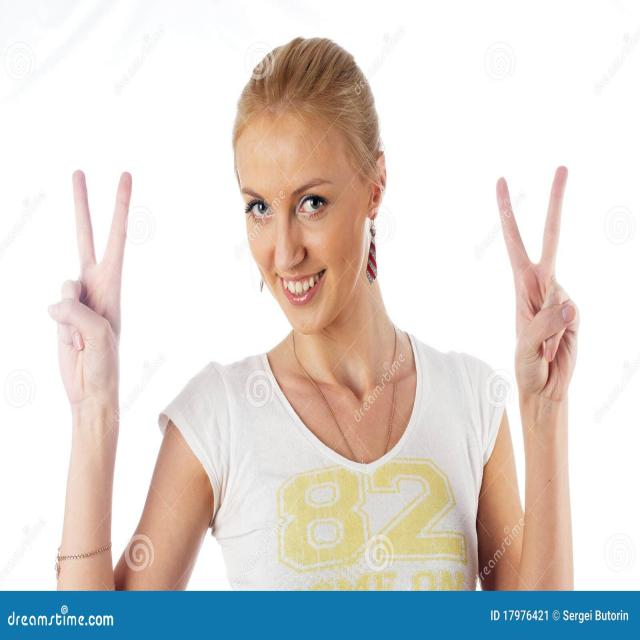Victory: (479, 156, 625, 419), (40, 159, 150, 423)
